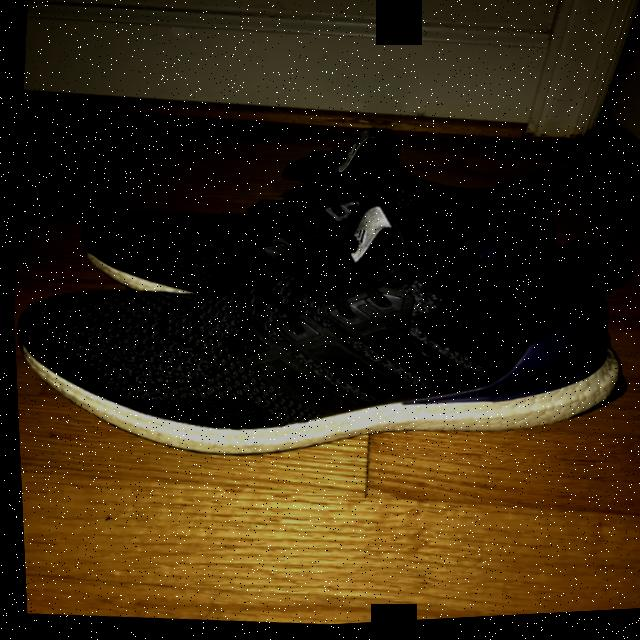shoes: (8, 203, 640, 508), (6, 92, 593, 338)
